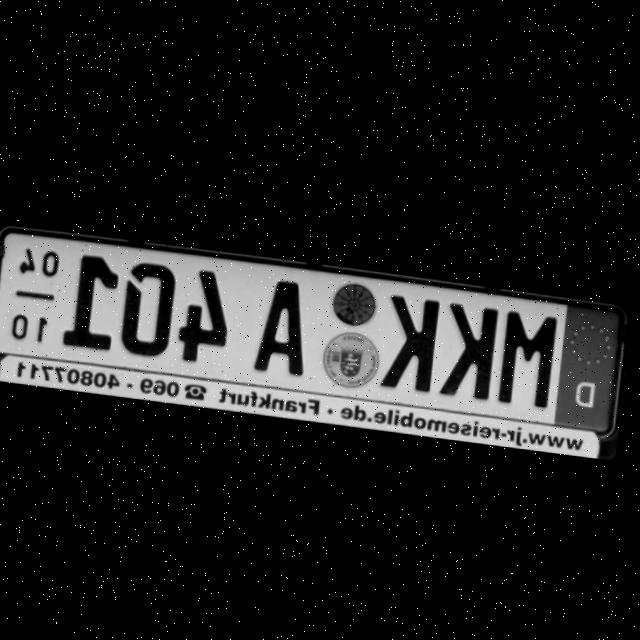license-plates: (0, 236, 621, 433)
